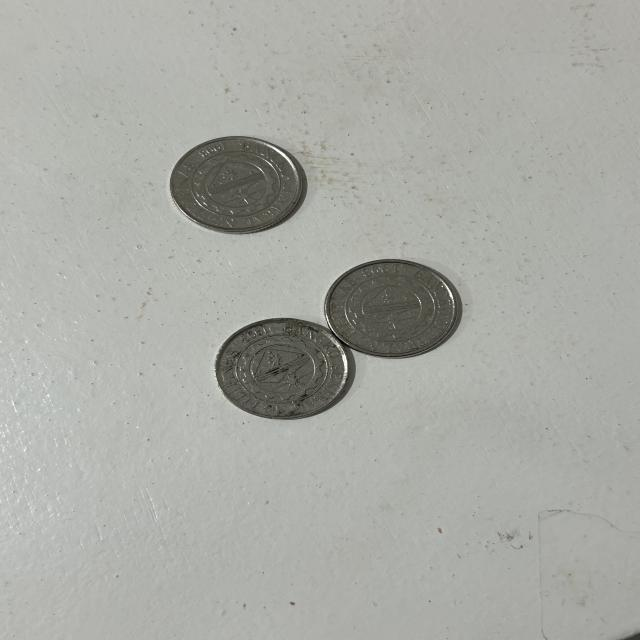1_Old_Back: (338, 270, 440, 346), (232, 335, 334, 402), (190, 151, 288, 216)
